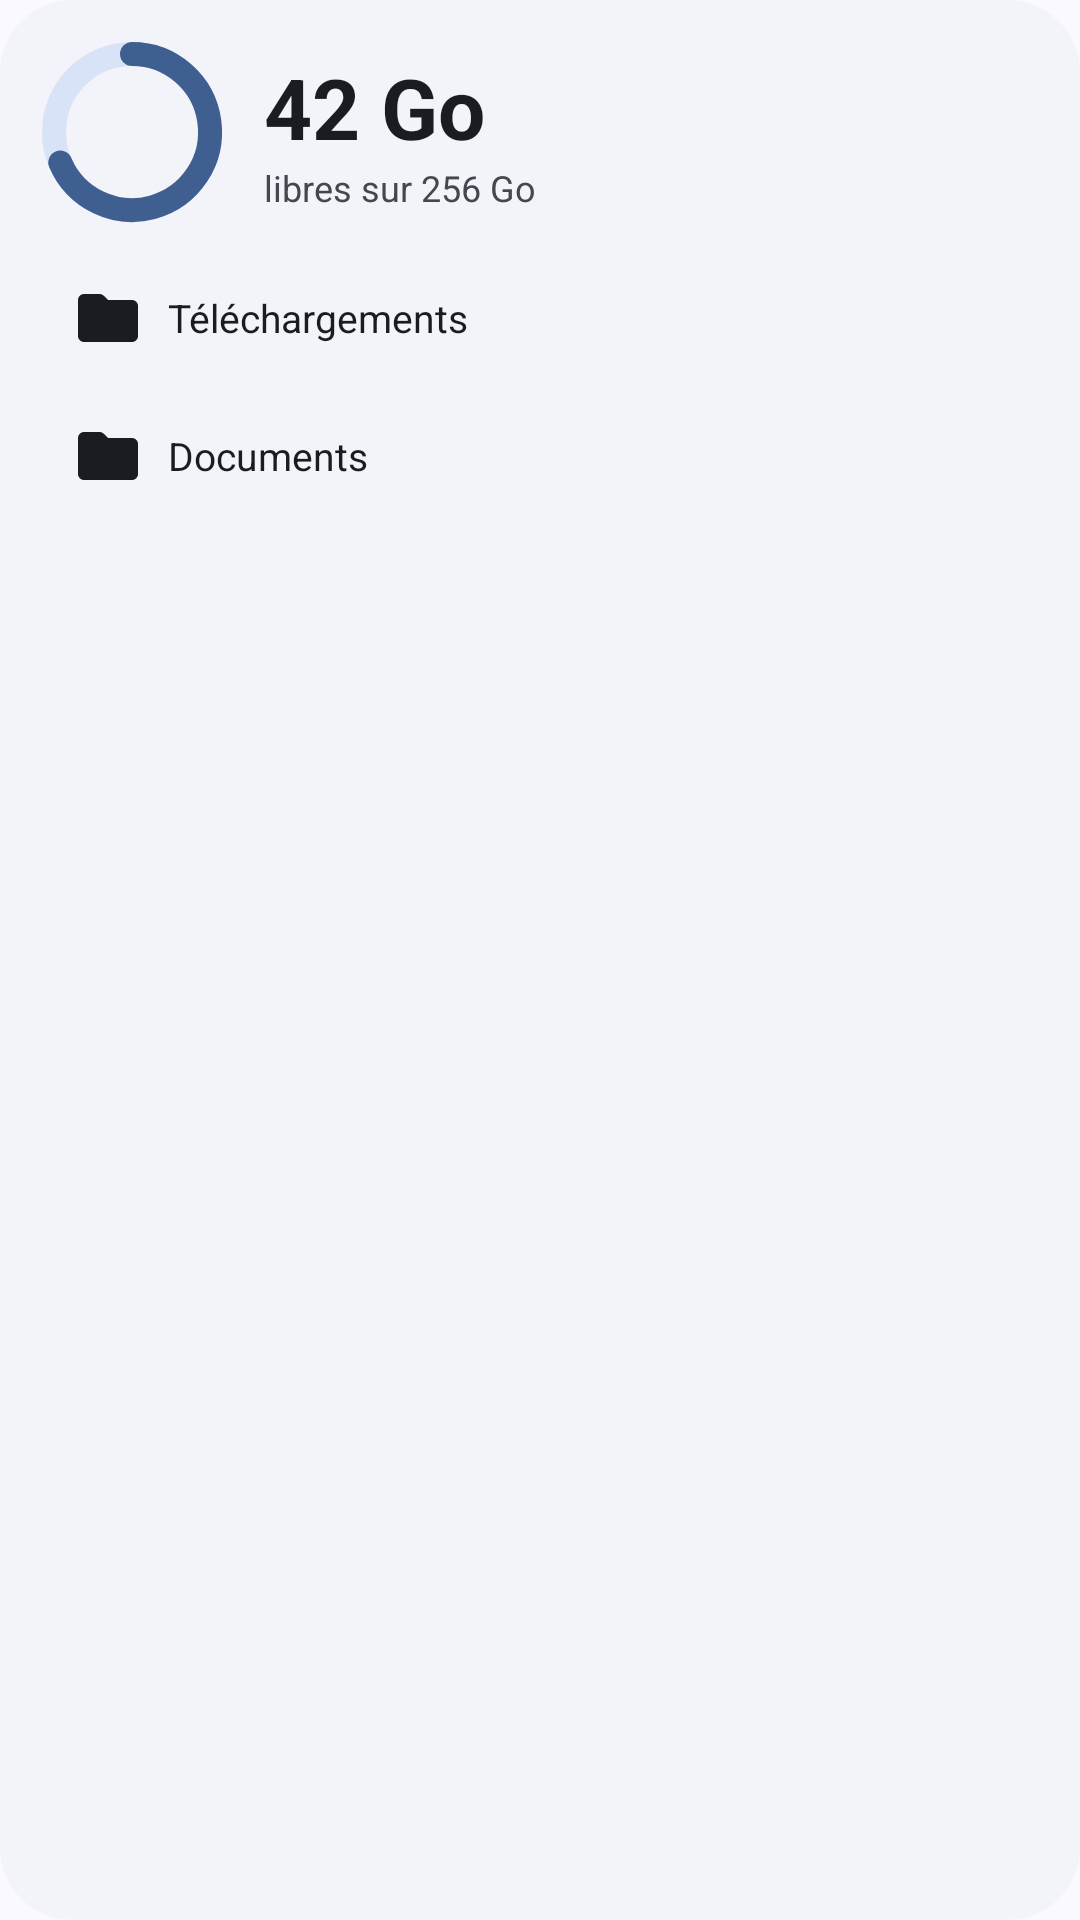

Locate icon controls on the screen. Image size 1080*1920, boxes as (x1, y1, x2, y2).
widget ring: (42, 42, 222, 223)
